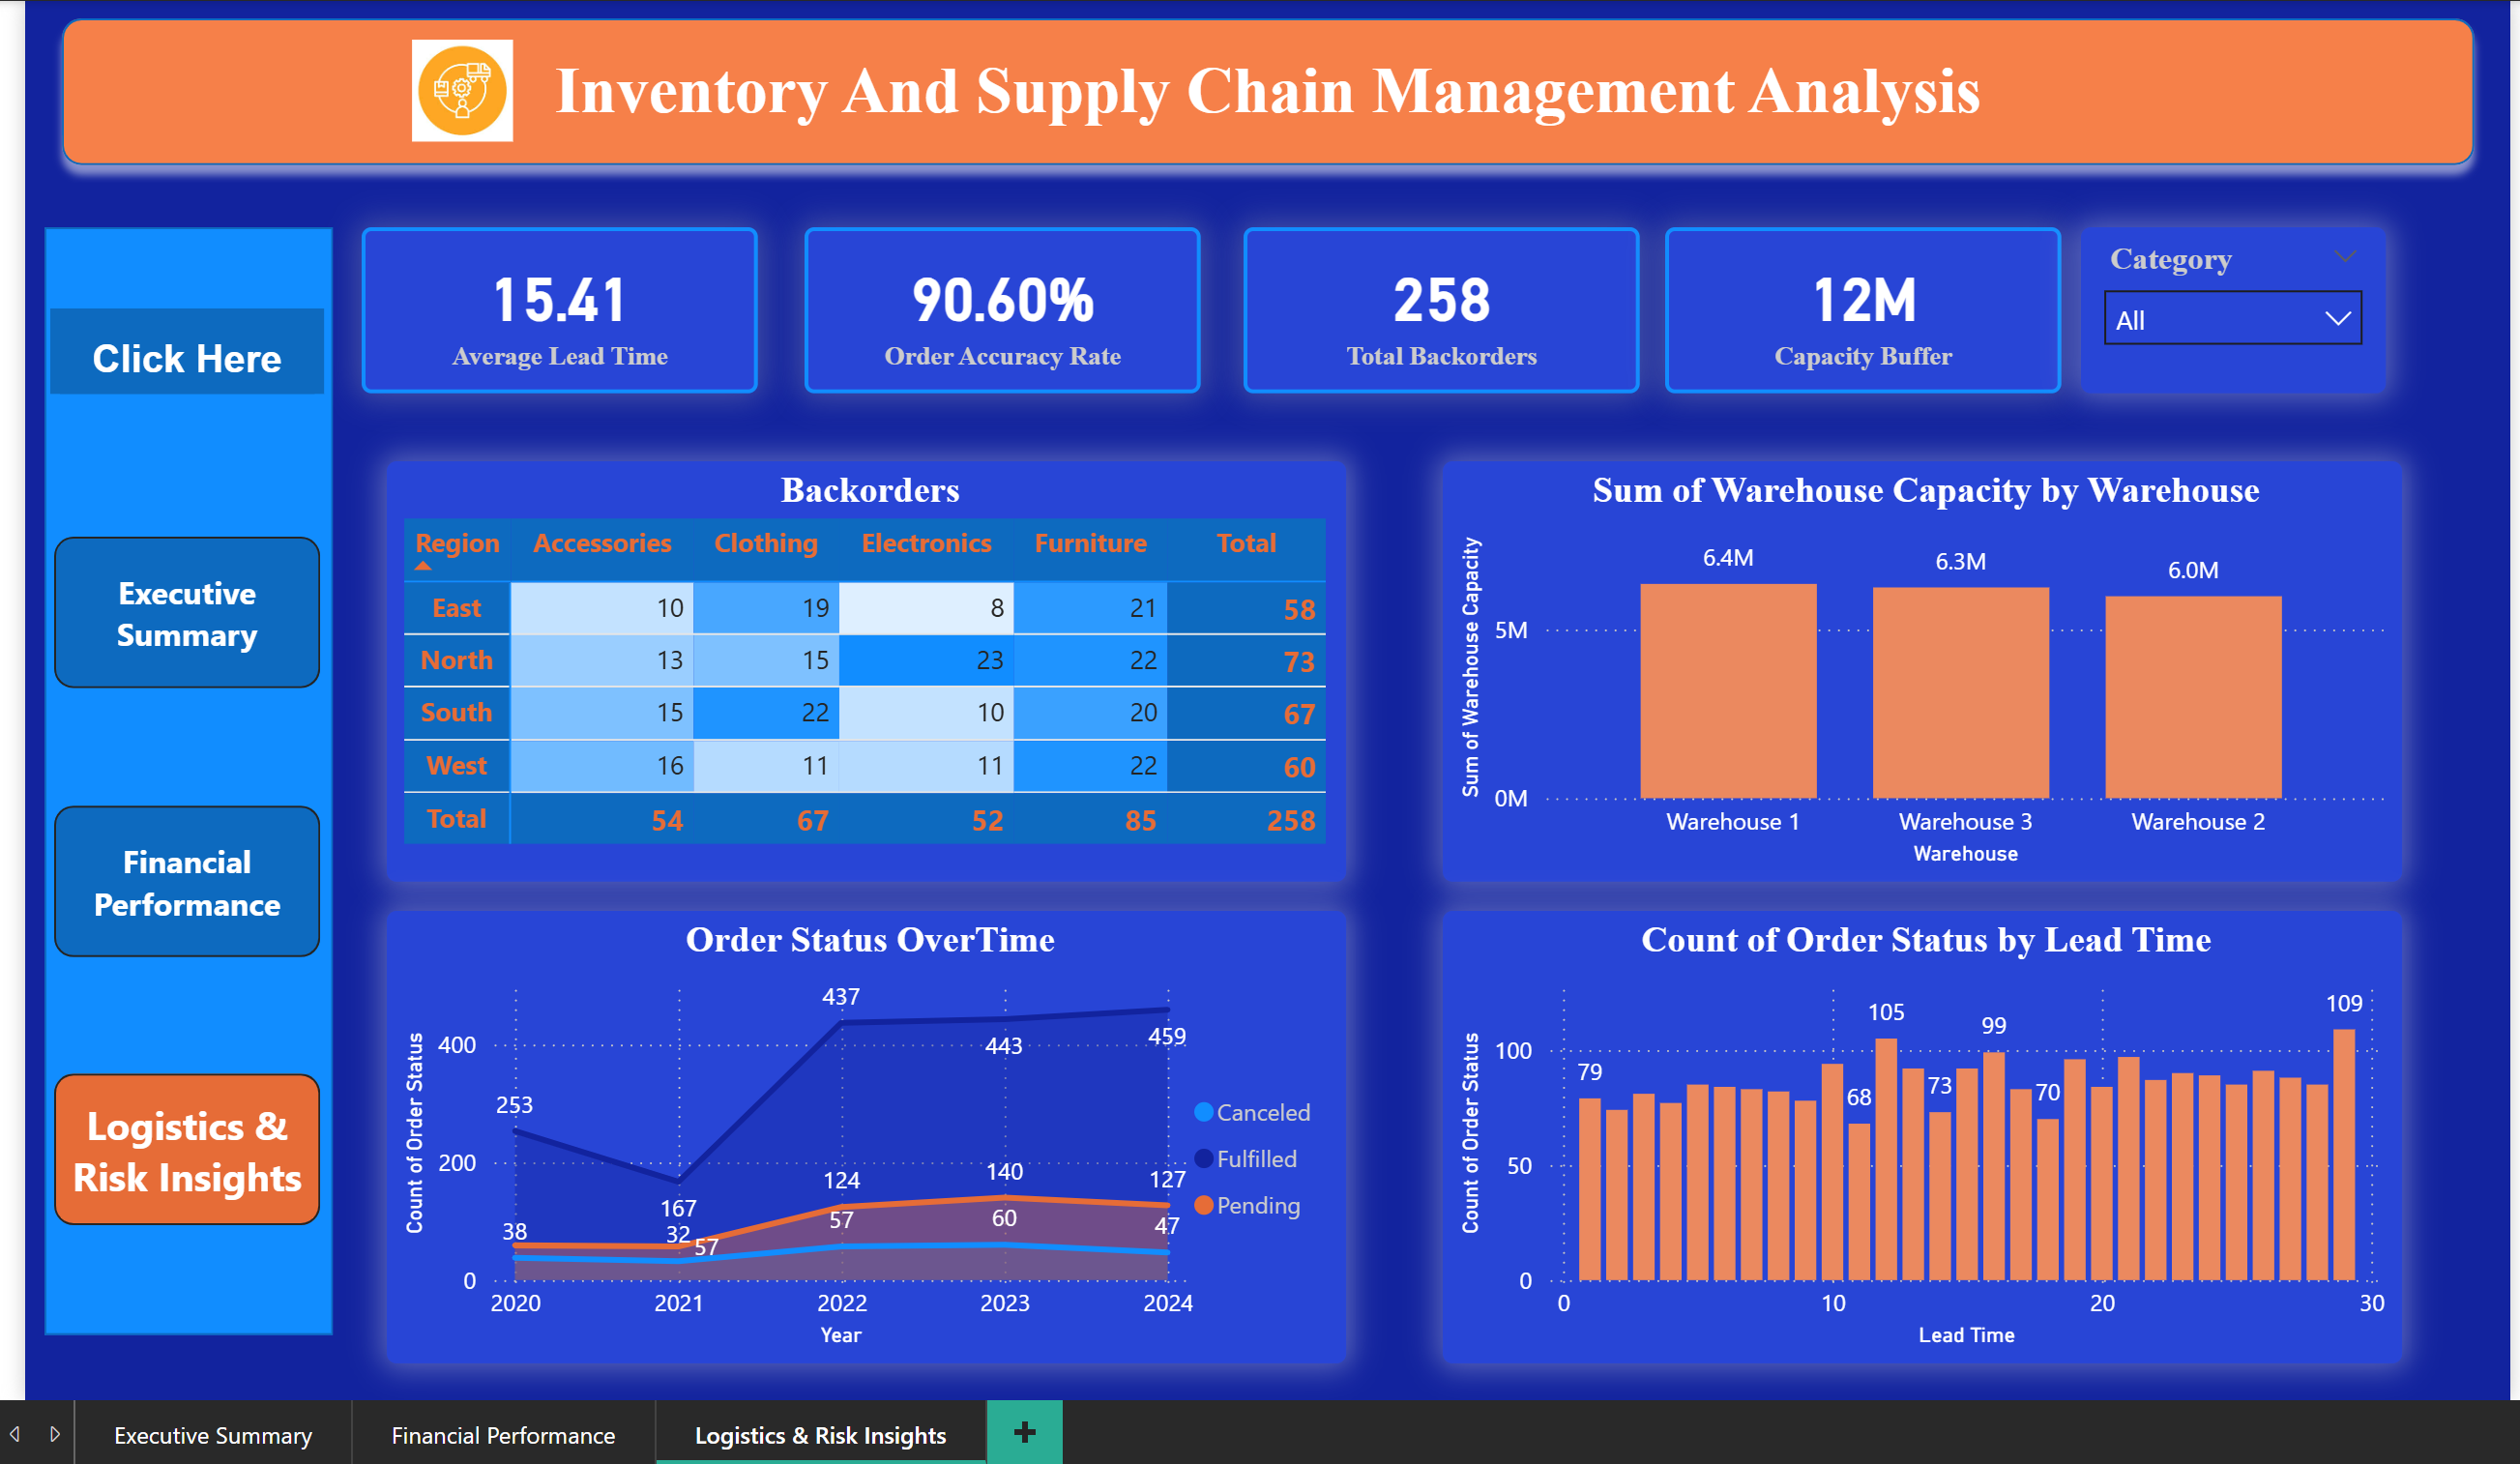

What the dashboard file says about the page in this screenshot:
{"tool":"powerbi","page":{"name":"Logistics & Risk Insights","canvas":[1280,720],"ordinal":2},"visuals":[{"type":"shape","box":[9.9,0,1260.2,93.5],"z":0},{"type":"image","box":[186.1,20.3,78.1,52.4],"z":2000},{"type":"card","fields":{"Values":["All Measures.Average Lead Time"]},"box":[173.2,116.6,204.2,85.5],"z":3000},{"type":"card","fields":{"Values":["All Measures.Order Accuracy Rate"]},"box":[401,116.6,204.2,85.5],"z":4000},{"type":"card","fields":{"Values":["All Measures.Total Backorders"]},"box":[627.7,116.6,204.2,85.5],"z":5000},{"type":"card","fields":{"Values":["All Measures.Capacity Buffer"]},"box":[844.8,116.6,204.2,85.5],"z":6000},{"type":"pivotTable","title":"Backorders","fields":{"Rows":["Inventory and SupplyChain Dataset.Region"],"Columns":["Inventory and SupplyChain Dataset.Category"],"Values":["All Measures.Total Backorders"]},"box":[186.1,237.4,494,216],"z":7000},{"type":"clusteredColumnChart","fields":{"Category":["Inventory and SupplyChain Dataset.Warehouse"],"Y":["Sum(Inventory and SupplyChain Dataset.Warehouse Capacity)"]},"box":[730.4,237.4,494,216],"z":8000},{"type":"areaChart","title":"Order Status OverTime","fields":{"Category":["Inventory and SupplyChain Dataset.Date.Variation.Date Hierarchy.Year"],"Y":["CountNonNull(Inventory and SupplyChain Dataset.Order Status)"],"Series":["Inventory and SupplyChain Dataset.Order Status"]},"box":[186.1,468.4,494,233.1],"z":9000},{"type":"clusteredColumnChart","fields":{"Category":["Inventory and SupplyChain Dataset.Lead Time"],"Y":["CountNonNull(Inventory and SupplyChain Dataset.Order Status)"]},"box":[730.4,468.4,494,233.1],"z":10000},{"type":"slicer","fields":{"Values":["Inventory and SupplyChain Dataset.Category"]},"box":[1058.6,116.6,157.2,85.5],"z":11000},{"type":"shape","box":[9.6,116.6,148.6,570],"z":11001},{"type":"pageNavigator","box":[15.1,275.9,137.3,354],"z":11002},{"type":"textbox","title":"Click Here","box":[12.6,158.7,141.1,44.1],"z":11003}]}

Visuals, with their boxes on the page's 1280x720 design canvas (x1, y1, x2, y2). These are canvas units, not pixel positions in the 2520x1464 screenshot, which may show the page scaled, cropped or inside an application window:
shape: region(10, 0, 1270, 94)
image: region(186, 20, 264, 73)
card - All Measures.Average Lead Time: region(173, 117, 377, 202)
card - All Measures.Order Accuracy Rate: region(401, 117, 605, 202)
card - All Measures.Total Backorders: region(628, 117, 832, 202)
card - All Measures.Capacity Buffer: region(845, 117, 1049, 202)
"Backorders" pivotTable: region(186, 237, 680, 453)
clusteredColumnChart - Inventory and SupplyChain Dataset.Warehouse x Sum(Inventory and SupplyChain Dataset.Warehouse Capacity): region(730, 237, 1224, 453)
"Order Status OverTime" areaChart: region(186, 468, 680, 702)
clusteredColumnChart - Inventory and SupplyChain Dataset.Lead Time x CountNonNull(Inventory and SupplyChain Dataset.Order Status): region(730, 468, 1224, 702)
slicer - Inventory and SupplyChain Dataset.Category: region(1059, 117, 1216, 202)
shape: region(10, 117, 158, 687)
pageNavigator: region(15, 276, 152, 630)
"Click Here" textbox: region(13, 159, 154, 203)
